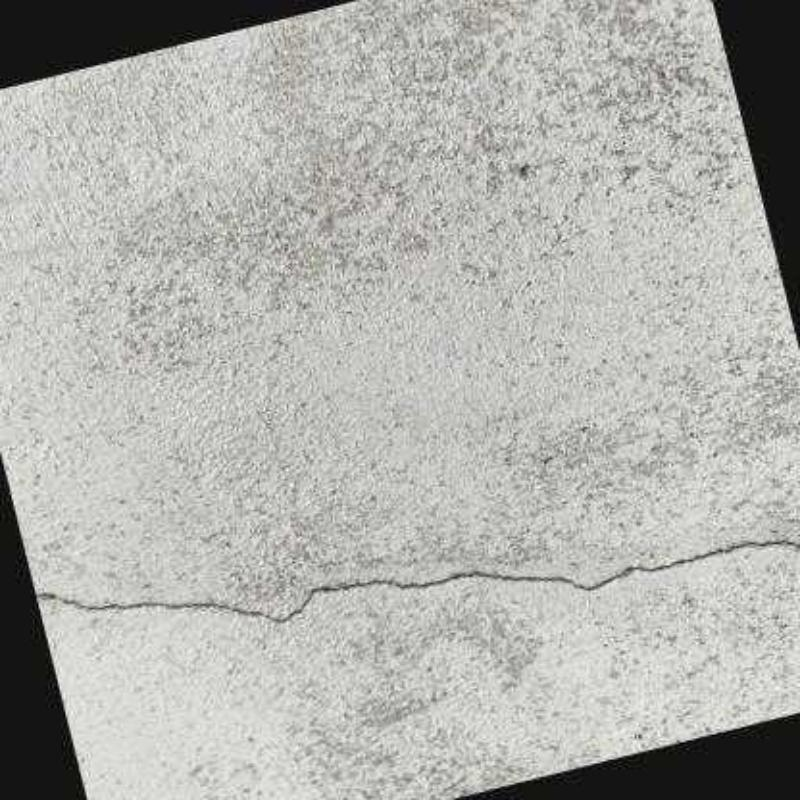crack: (35, 540, 798, 623)
